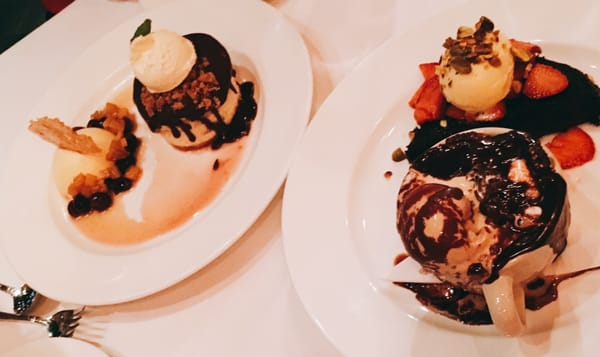curry: (1, 0, 598, 349)
sushi: (393, 15, 599, 339), (395, 127, 576, 326), (129, 30, 258, 153)
